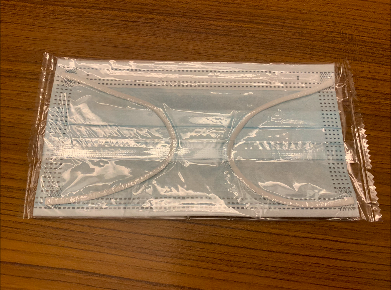object_name: (28, 34, 372, 251)
